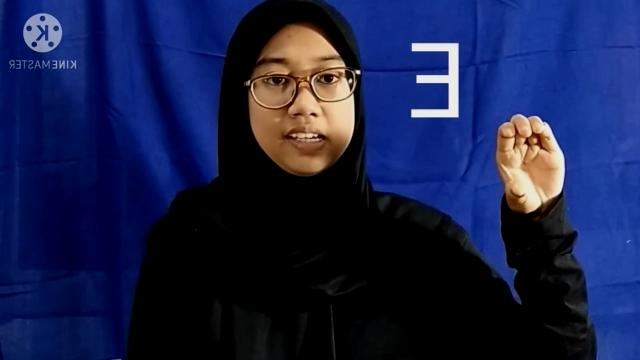E: (496, 115, 566, 210)
